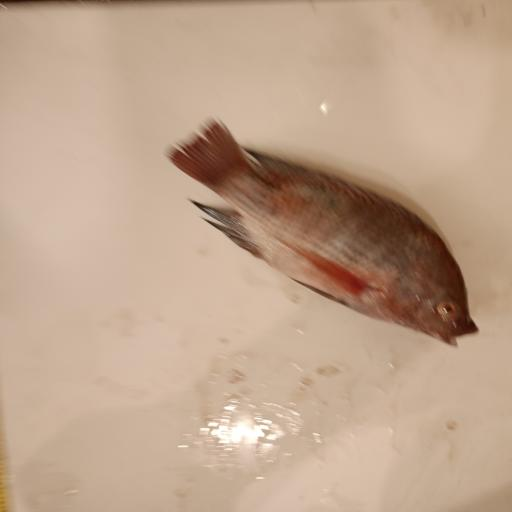Tilapia: (163, 118, 480, 348)
